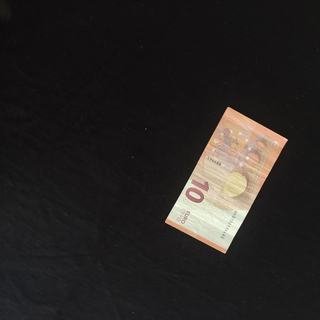10EUROBack: (164, 106, 288, 254)
